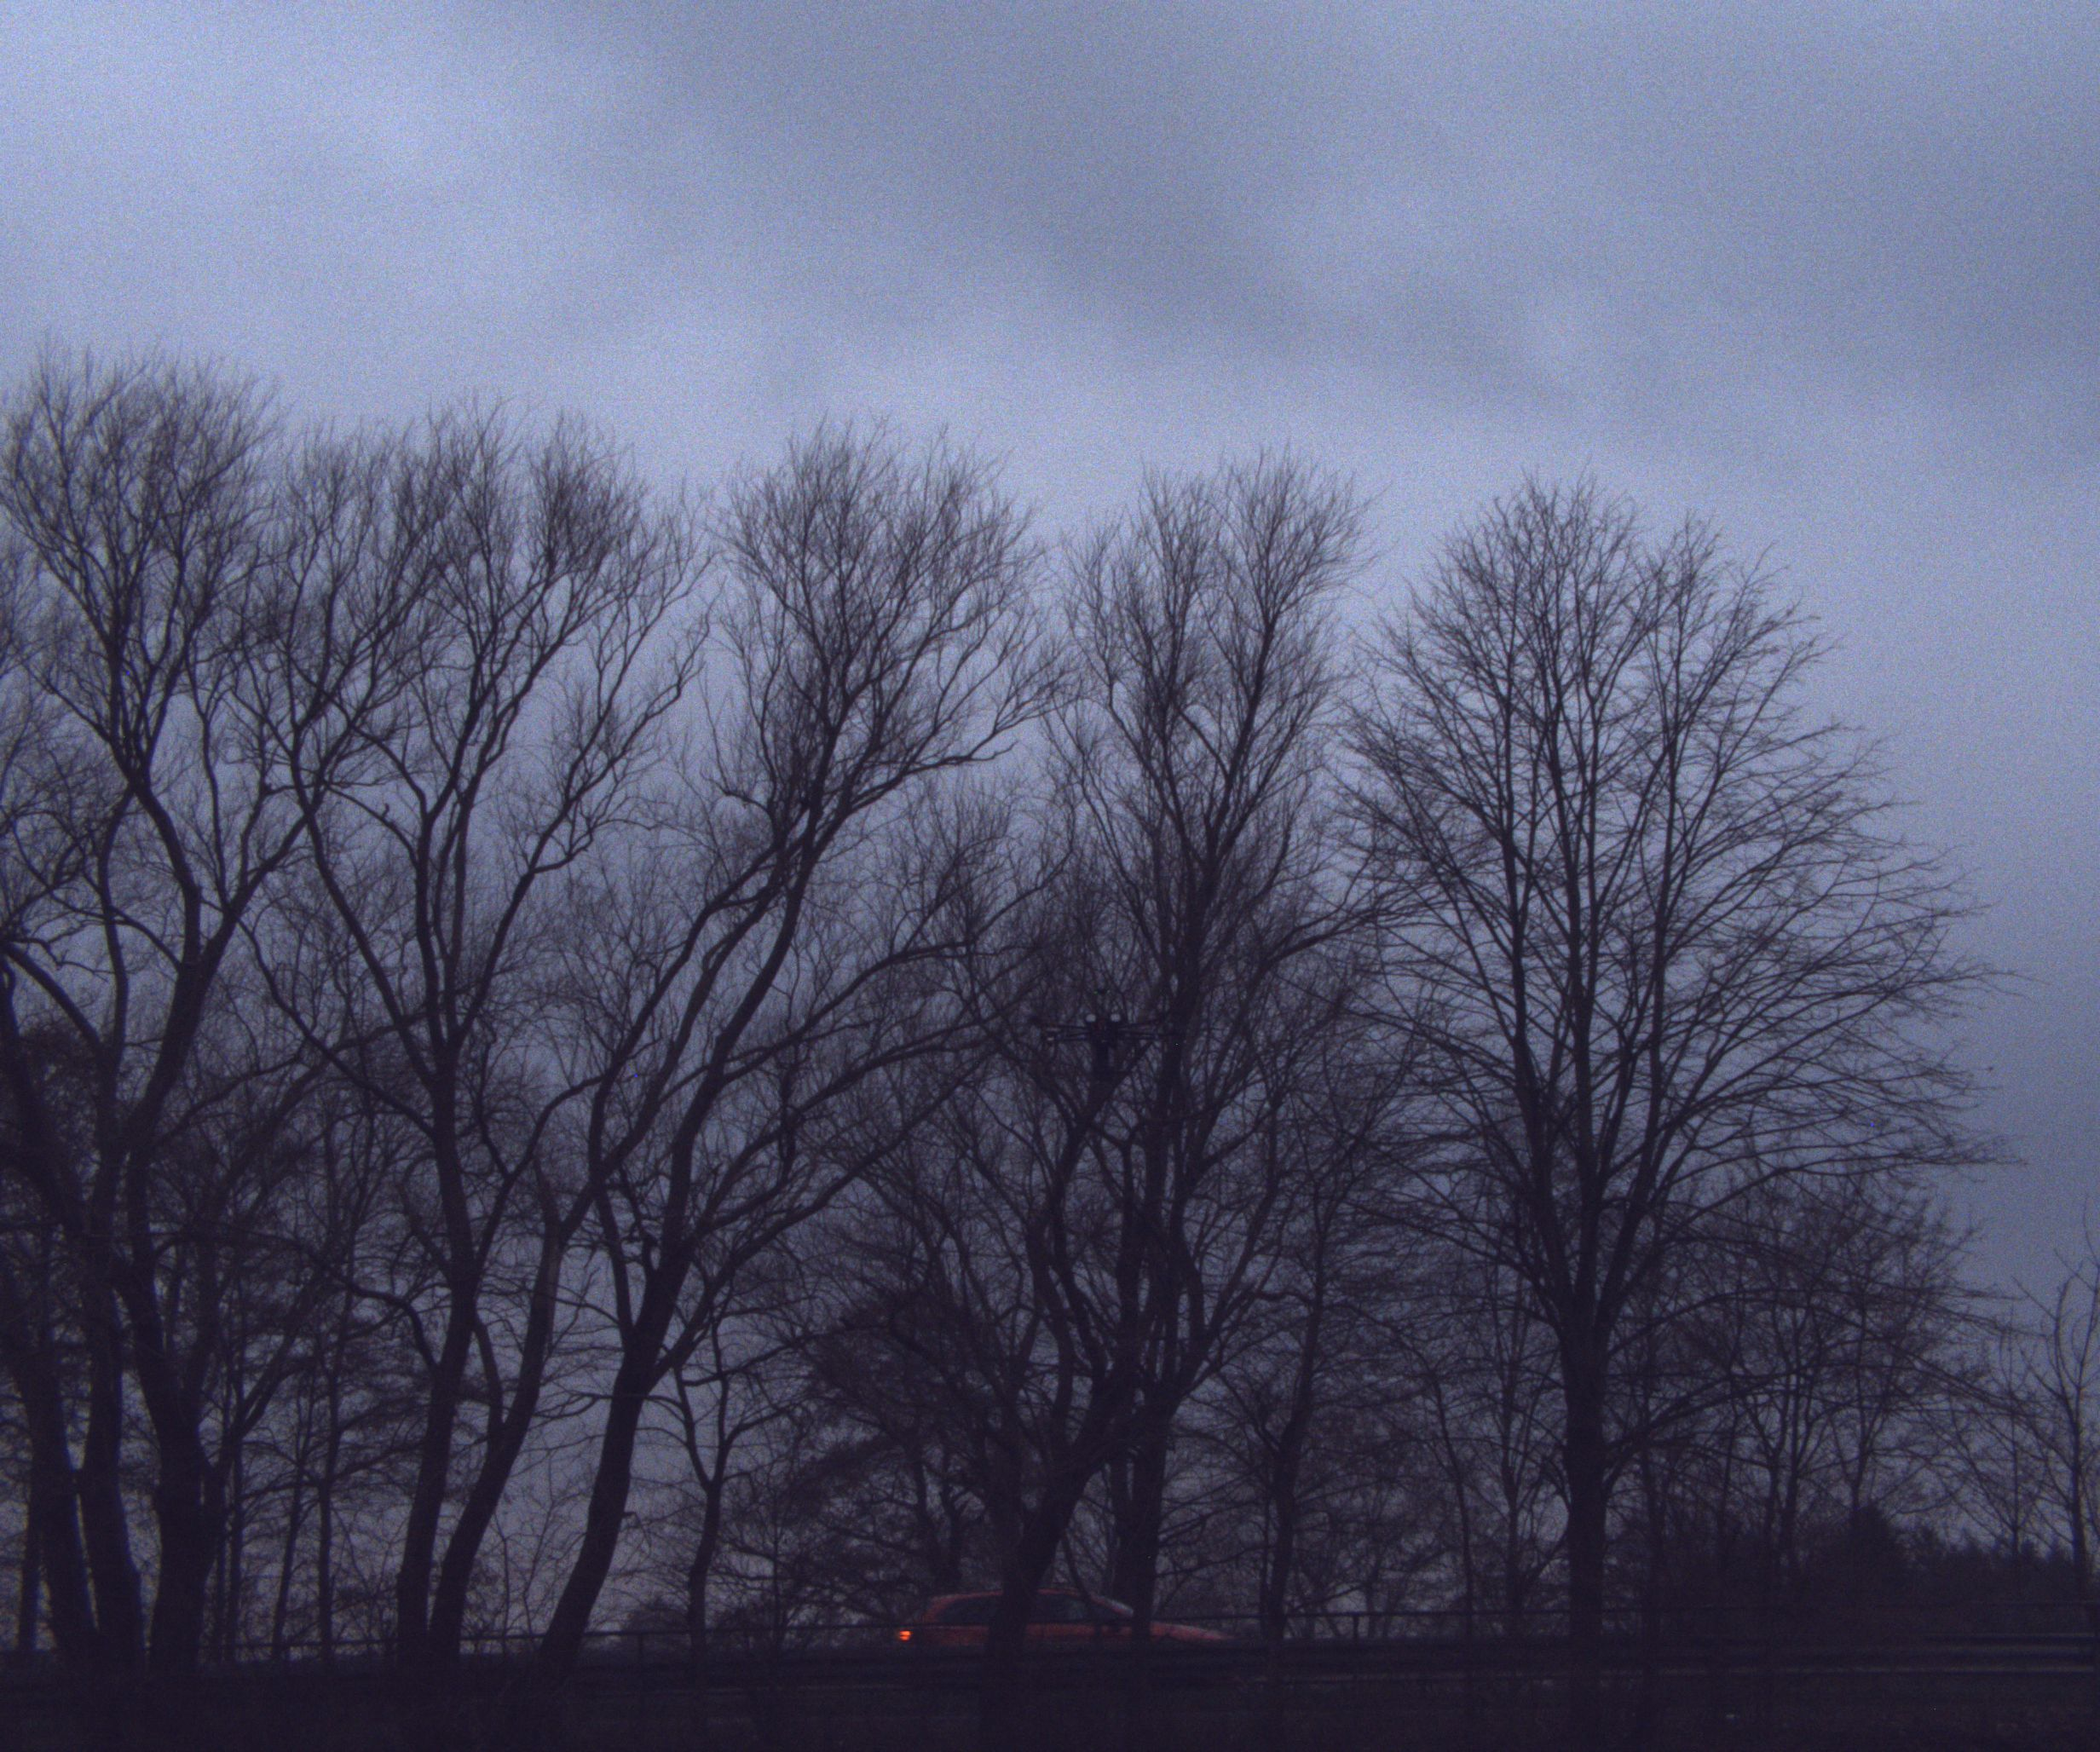Drohne: (1008, 945, 1263, 1065)
